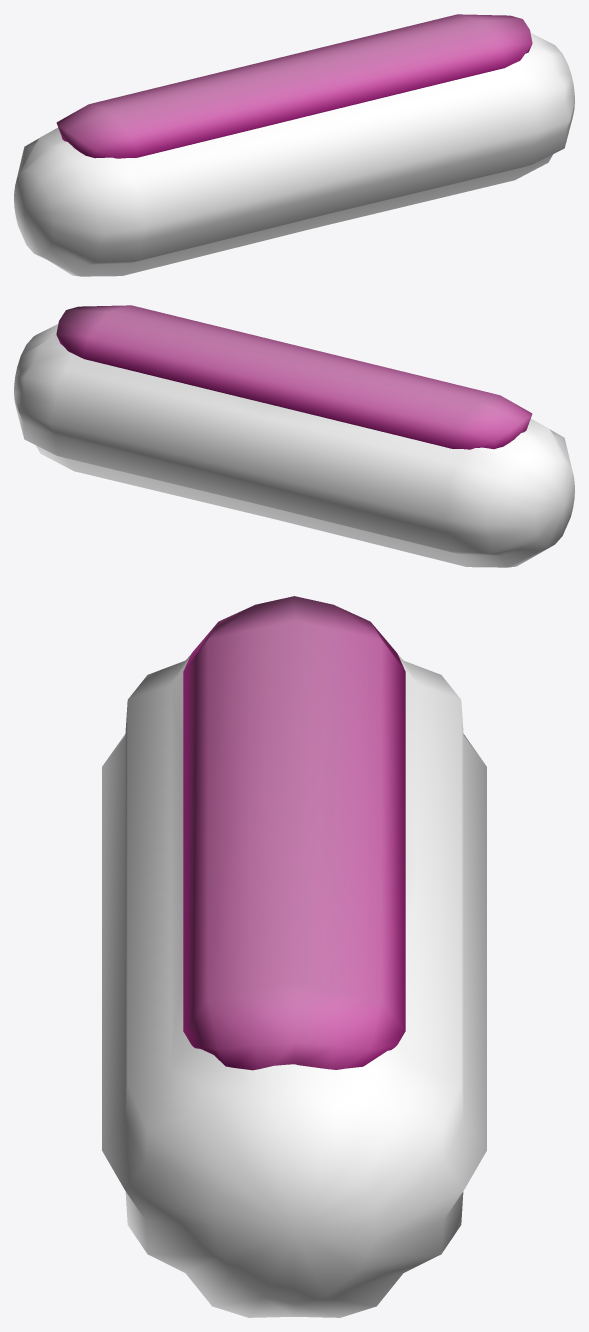
Rendered from Eclair_03.fbx.
The picture shows the model from 3 angles, top to bottom: view 1: azimuth 30°, elevation 25°; view 2: azimuth 150°, elevation 25°; view 3: azimuth 270°, elevation 25°; orthographic projection. The views are drawn at different scales.
Visible parts, largest first — view 1: Eclair_03; view 2: Eclair_03; view 3: Eclair_03.
Part boxes in pixels (bbox=[...]): Eclair_03: bbox=[14, 14, 574, 276]; Eclair_03: bbox=[14, 305, 574, 567]; Eclair_03: bbox=[102, 596, 486, 1317].
Bounding box in the file's own units: 204 × 62.89 × 54.76.
